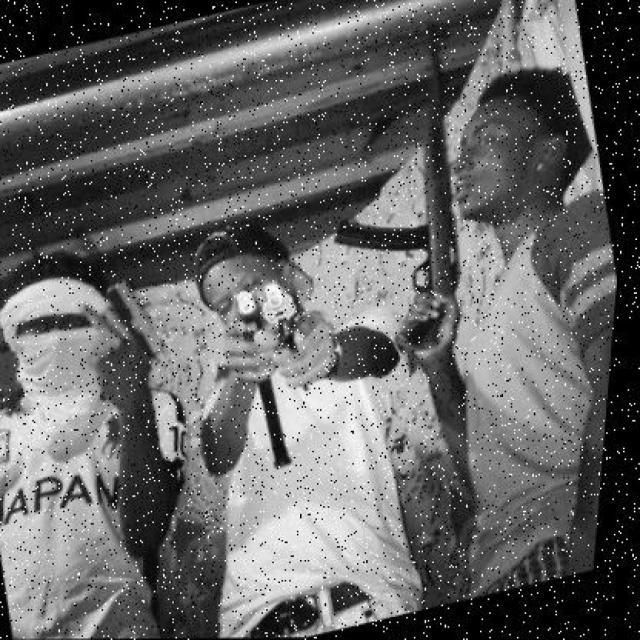weapon: (334, 21, 461, 351), (104, 279, 165, 395), (261, 282, 299, 369), (231, 288, 261, 362)
